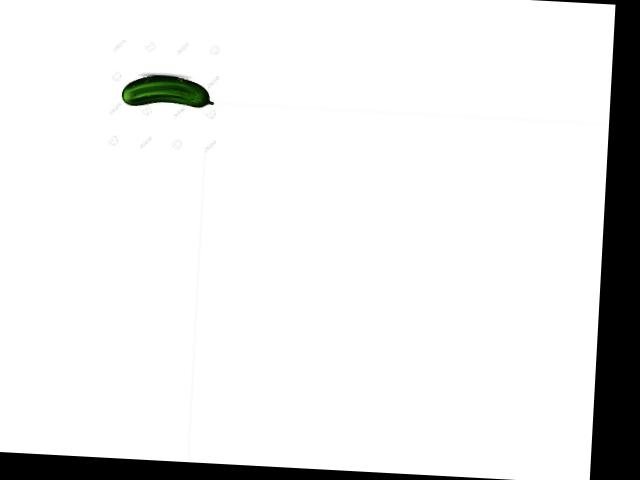cucumber: (121, 72, 214, 109)
